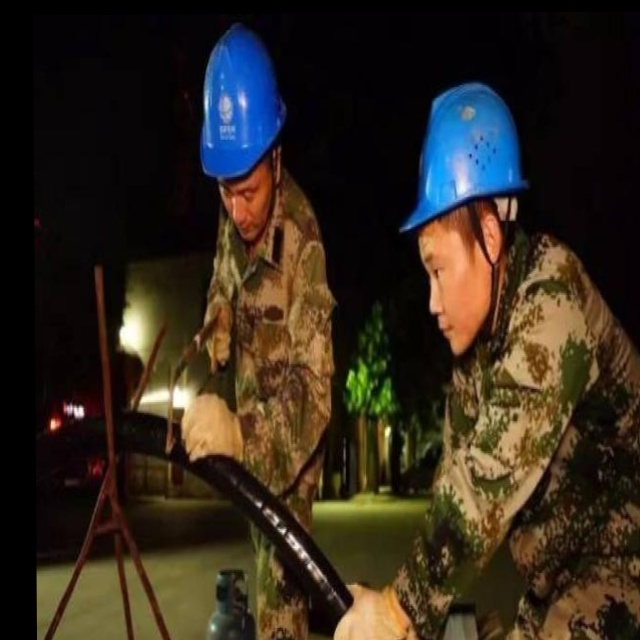Con_Casco: (406, 82, 524, 341), (200, 28, 285, 225)
